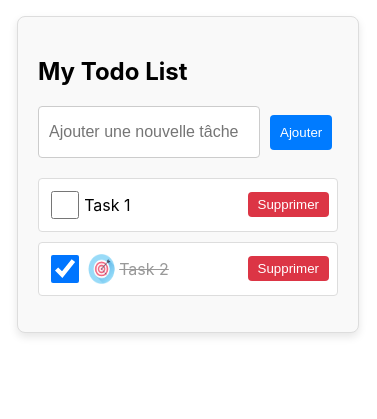
it: TodoList Component › should add a new task
The image size is (377, 419).
In the field with placeholder "Ajouter une nouvelle tâche": {"x": 149, "y": 132} top-left (38, 106), bottom-right (260, 158), type "New Task"
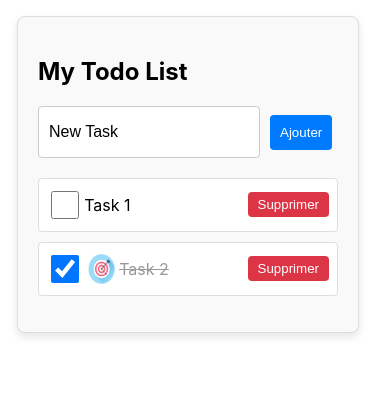
Click the button "Ajouter": {"x": 301, "y": 132} top-left (270, 115), bottom-right (332, 150)
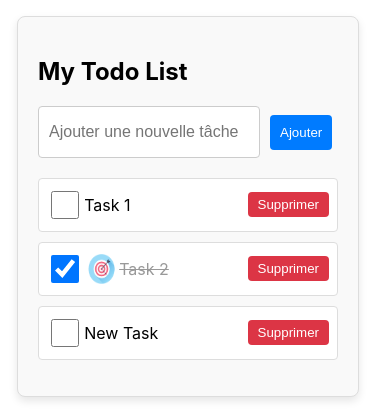
Result: the text "New Task" is shown at top-left (84, 323), bottom-right (158, 343)
